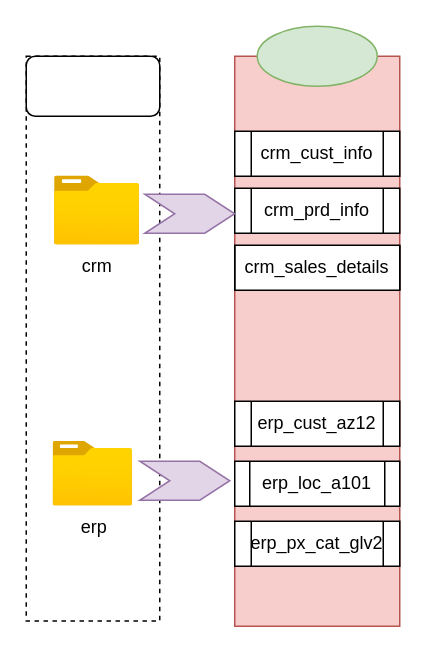
Image size: 426x653. Some labels were removed from this diagram. Here are the shapes that lost their labels. From the top down, the centre of each, then its label:
the point at 316,55: Bronze layer
the point at 92,85: sources
